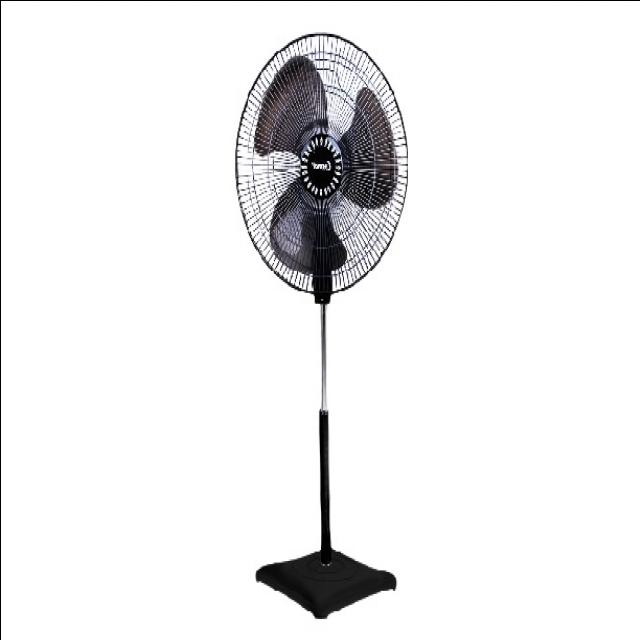fan: (232, 25, 406, 617)
